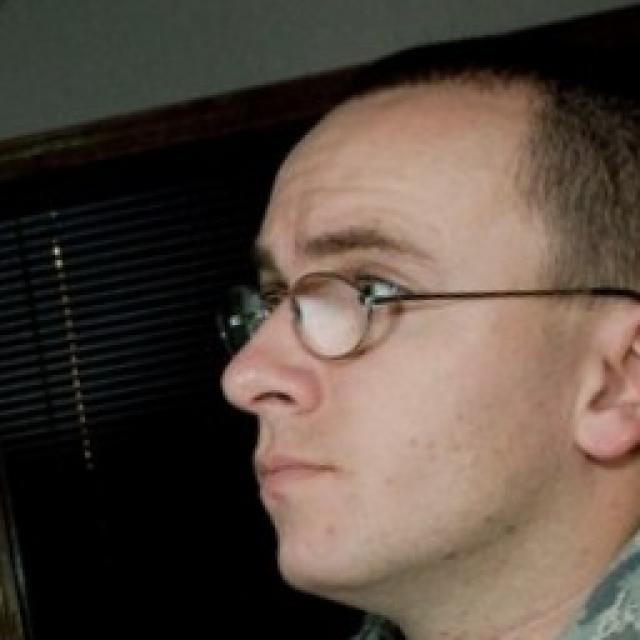glasses: (207, 262, 640, 359)
